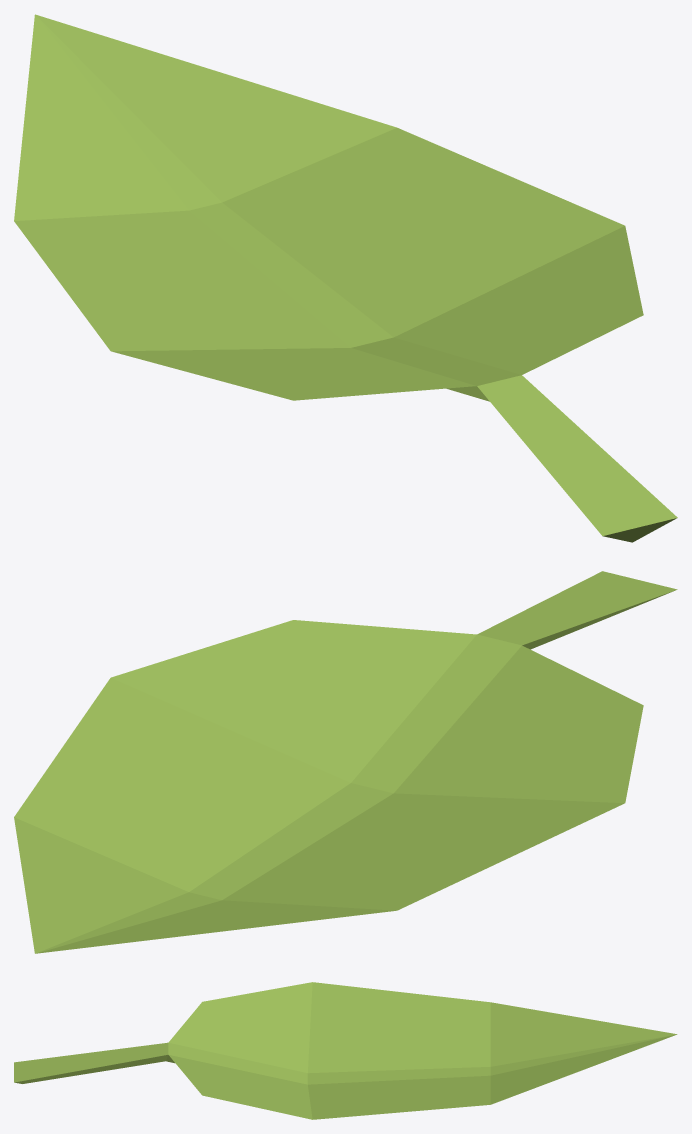
Rendered from leaf05.fbx.
3 views of the same model, one above another, from view 1: azimuth 30°, elevation 25°; view 2: azimuth 150°, elevation 25°; view 3: azimuth 270°, elevation 25° (orthographic). The views are drawn at different scales.
Parts seen in each view (by area): view 1: leaf05; view 2: leaf05; view 3: leaf05.
Boxes of the visible parts, x1=… form: leaf05: x1=14, y1=14, x2=677, y2=542; leaf05: x1=14, y1=571, x2=677, y2=953; leaf05: x1=14, y1=982, x2=677, y2=1119.
Size of the model in its own units: 0.338 by 0.0655 by 0.6886.
